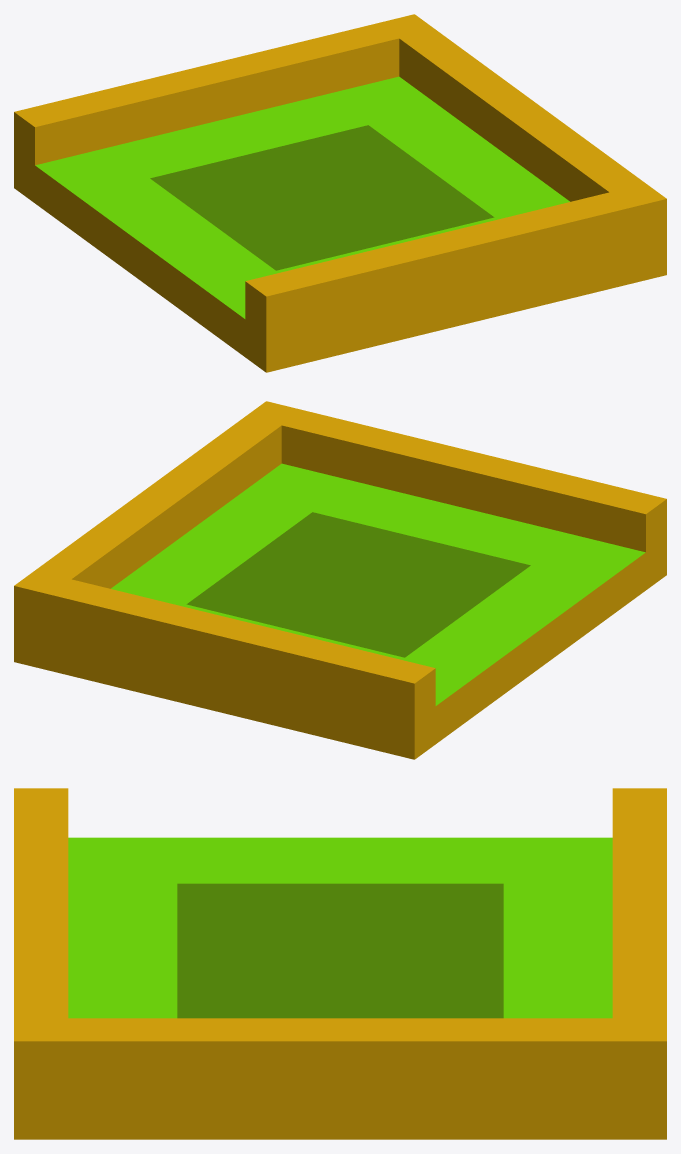
The model's file is start point.fbx.
3 views of the same model, one above another, from view 1: azimuth 30°, elevation 25°; view 2: azimuth 150°, elevation 25°; view 3: azimuth 270°, elevation 25° (orthographic). The views are drawn at different scales.
Visible parts, largest first — view 1: Cube; view 2: Cube; view 3: Cube.
Boxes of the visible parts, bbox=[...] form: Cube: bbox=[14, 14, 666, 372]; Cube: bbox=[14, 401, 666, 759]; Cube: bbox=[14, 788, 666, 1139].
Bounding box in the file's own units: 220 × 40 × 240.
